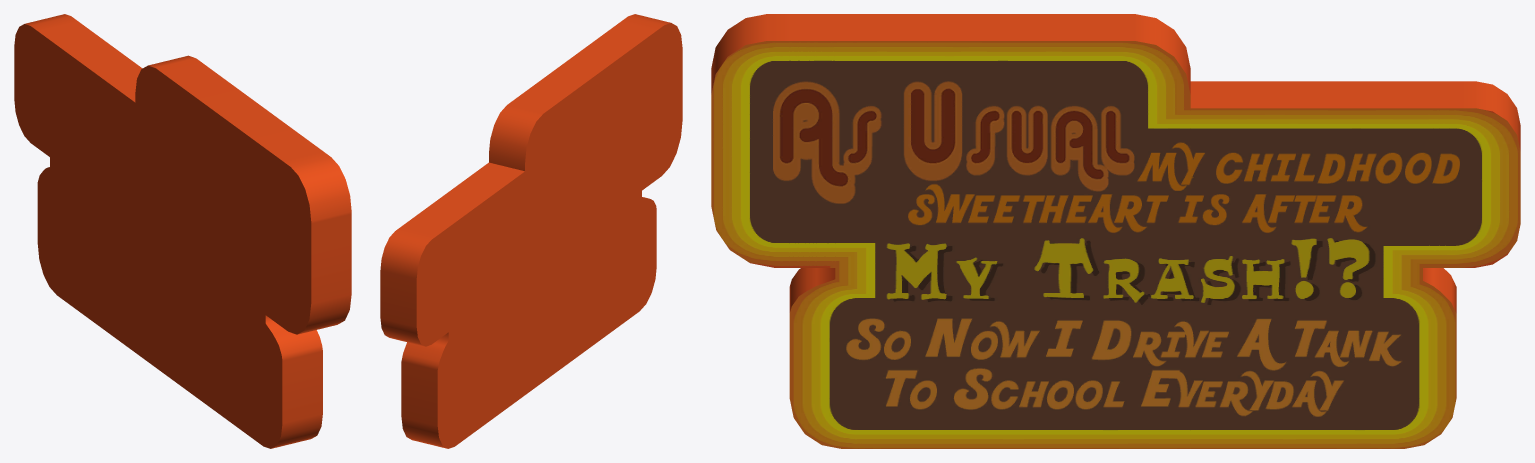
Rendered from Sign_Trash.fbx.
3 renders of one model, left to right at view 1: azimuth 30°, elevation 25°; view 2: azimuth 150°, elevation 25°; view 3: azimuth 270°, elevation 25°, orthographic. The views are drawn at different scales.
Parts seen in each view (by area): view 1: Sign_Trash; view 2: Sign_Trash; view 3: Sign_Trash.
Boxes of the visible parts, x1,y1,x2,y2 form: Sign_Trash: (14,14,351,448); Sign_Trash: (380,14,682,448); Sign_Trash: (711,14,1520,448).
Size of the model in its own units: 0.4674 by 3.3 by 5.94.
